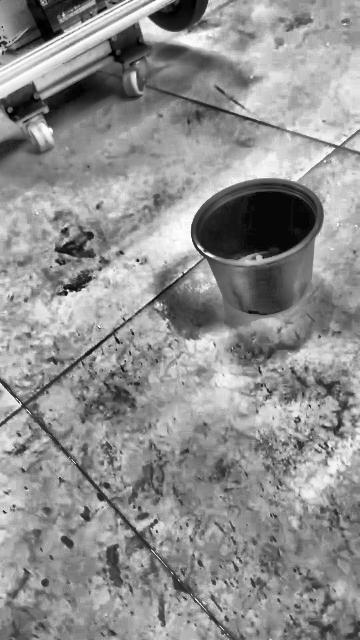pot: (191, 179, 324, 315)
